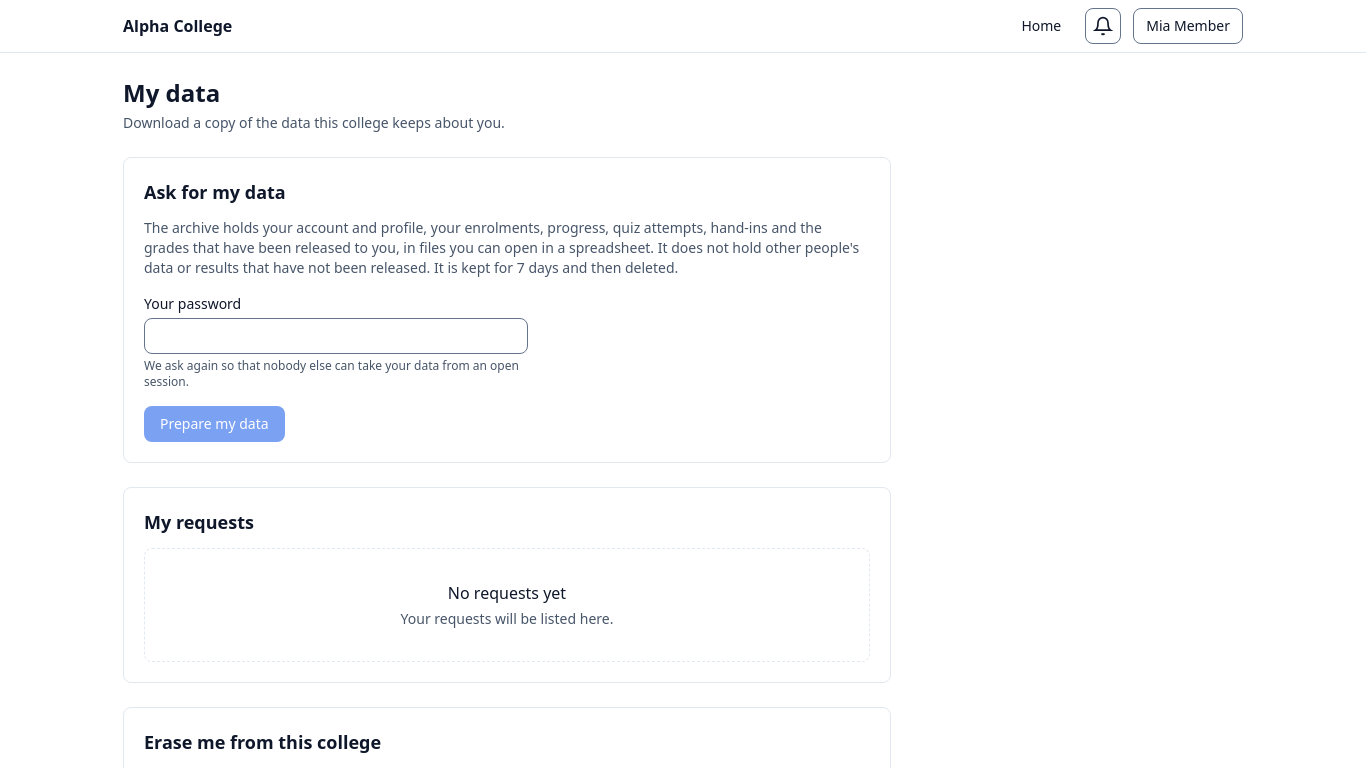
it: My data › a wrong password shows the server message and keeps nothing in the list
Check: the text "No requests yet" is shown, box [448, 582, 566, 604]
In the password field labelled "Your password": (336, 336) [144, 318, 528, 354], type "wrong"
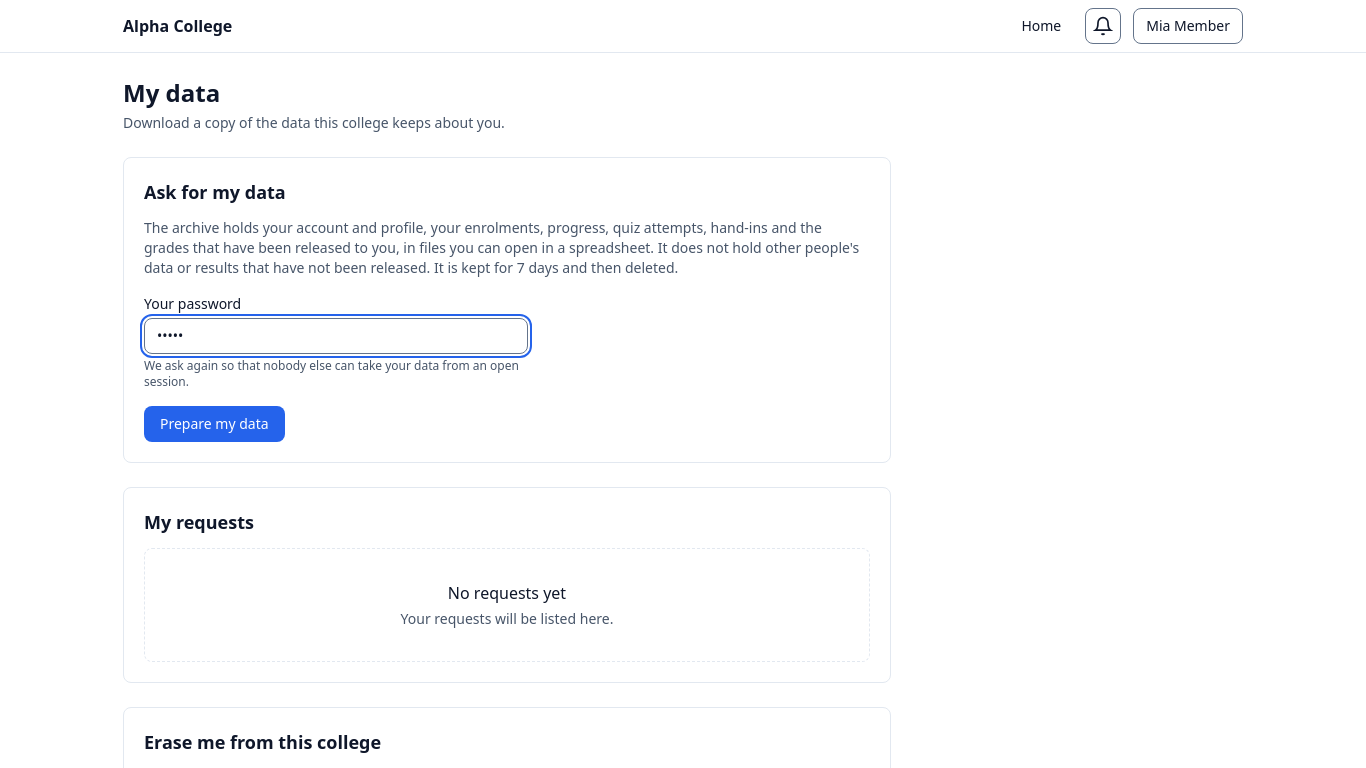
Click the button "Prepare my data": (214, 424) [144, 406, 285, 442]
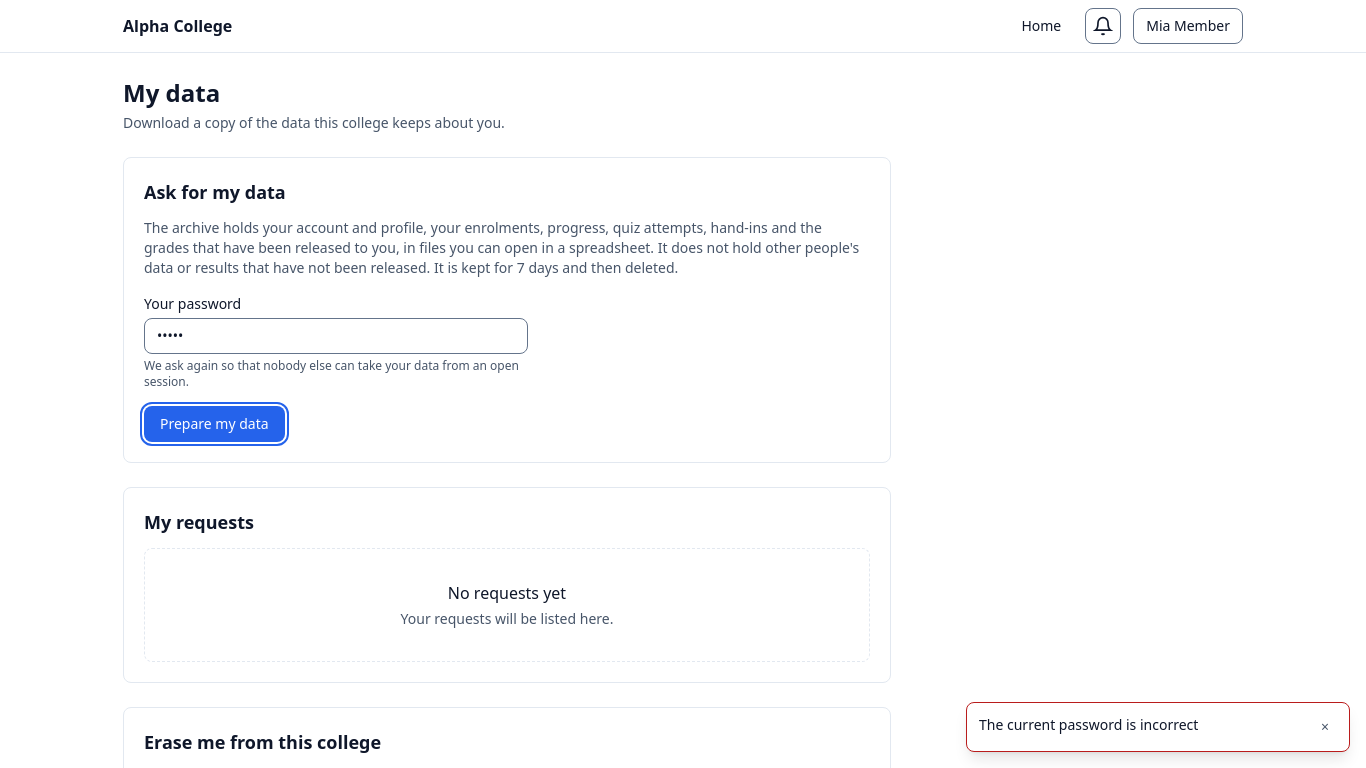
Check: the text "No requests yet" is shown, box [448, 582, 566, 604]
Check: the text "The current password is incorrect" is shown, box [979, 715, 1198, 734]
